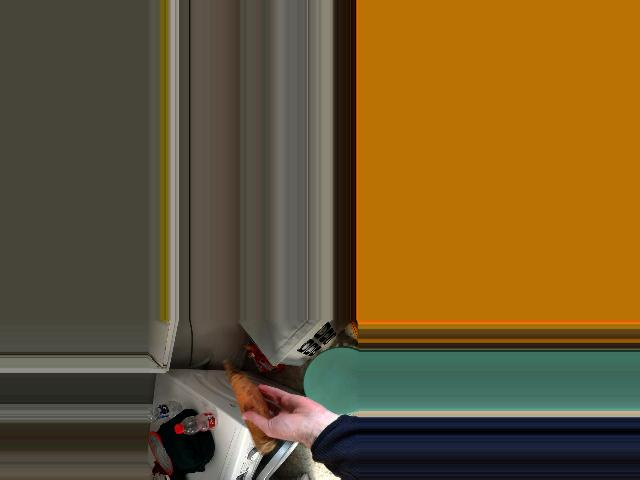sweet_potato: (228, 381, 275, 448)
